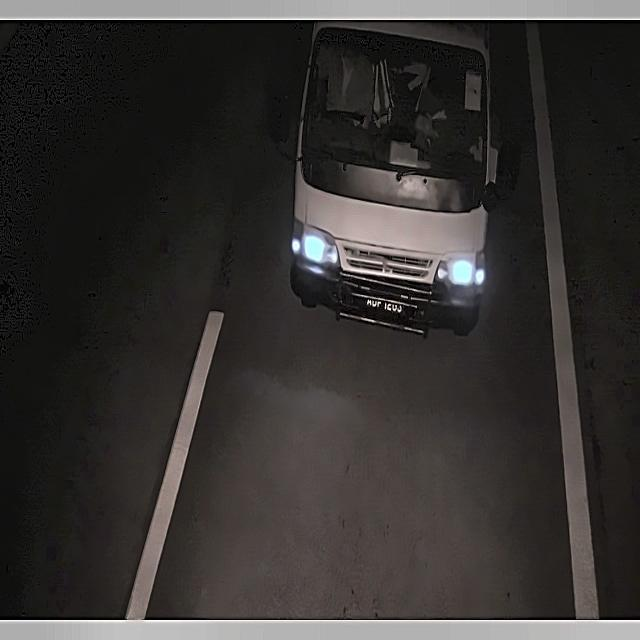car: (358, 285, 407, 326)
